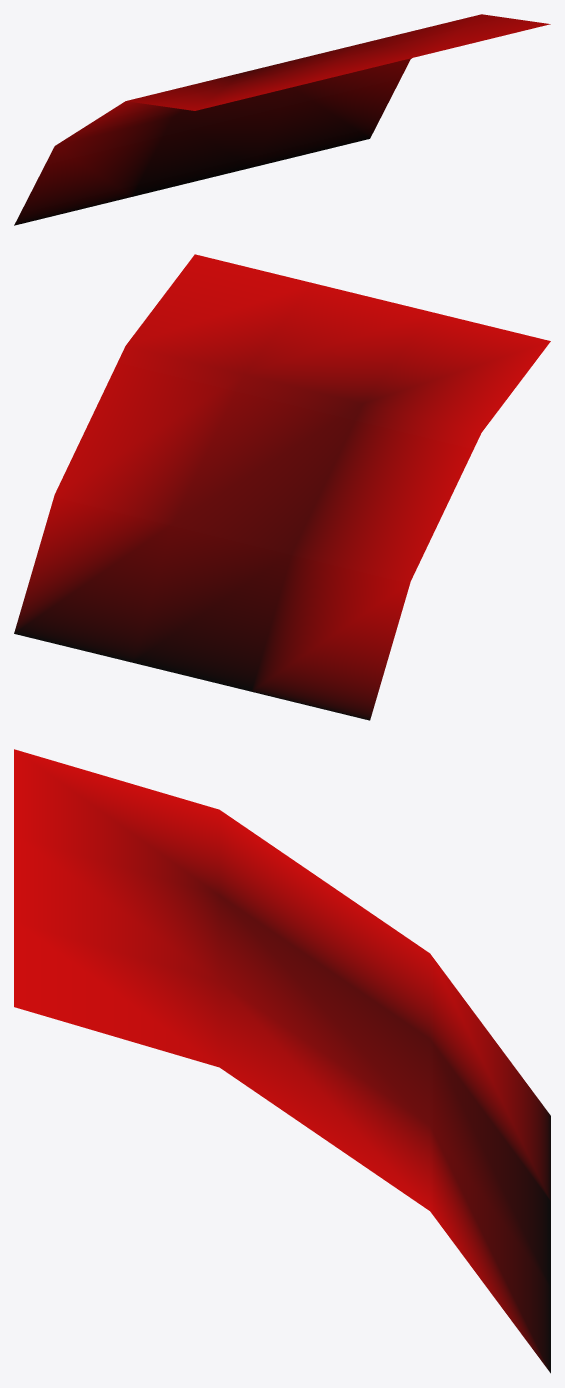
File: grass_plane_1.fbx
3 renders of one model, top to bottom at view 1: azimuth 30°, elevation 25°; view 2: azimuth 150°, elevation 25°; view 3: azimuth 270°, elevation 25°, orthographic. The views are drawn at different scales.
Visible parts, largest first — view 1: grass_plane_1; view 2: grass_plane_1; view 3: grass_plane_1.
Boxes of the visible parts, x1=… form: grass_plane_1: x1=14, y1=14, x2=550, y2=225; grass_plane_1: x1=14, y1=254, x2=550, y2=720; grass_plane_1: x1=14, y1=749, x2=550, y2=1373.
Bounding box in the file's own units: 1.11 × 0.7386 × 0.9802.
